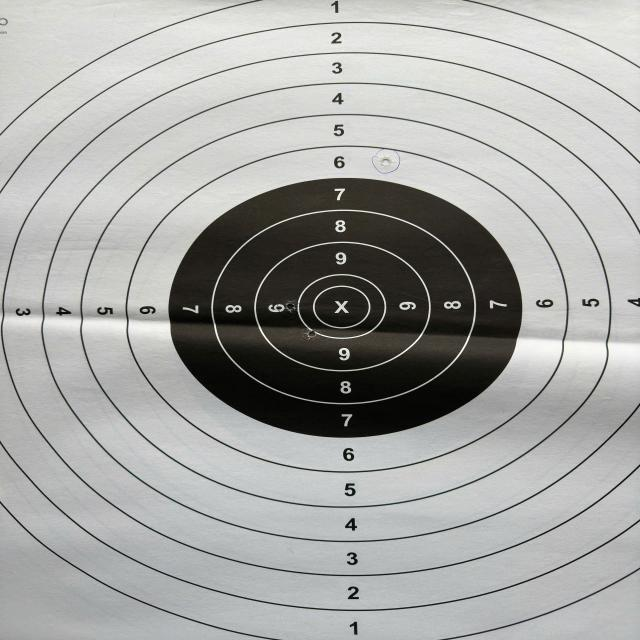bullet: (380, 156, 392, 168), (284, 300, 296, 312), (309, 328, 316, 336)
